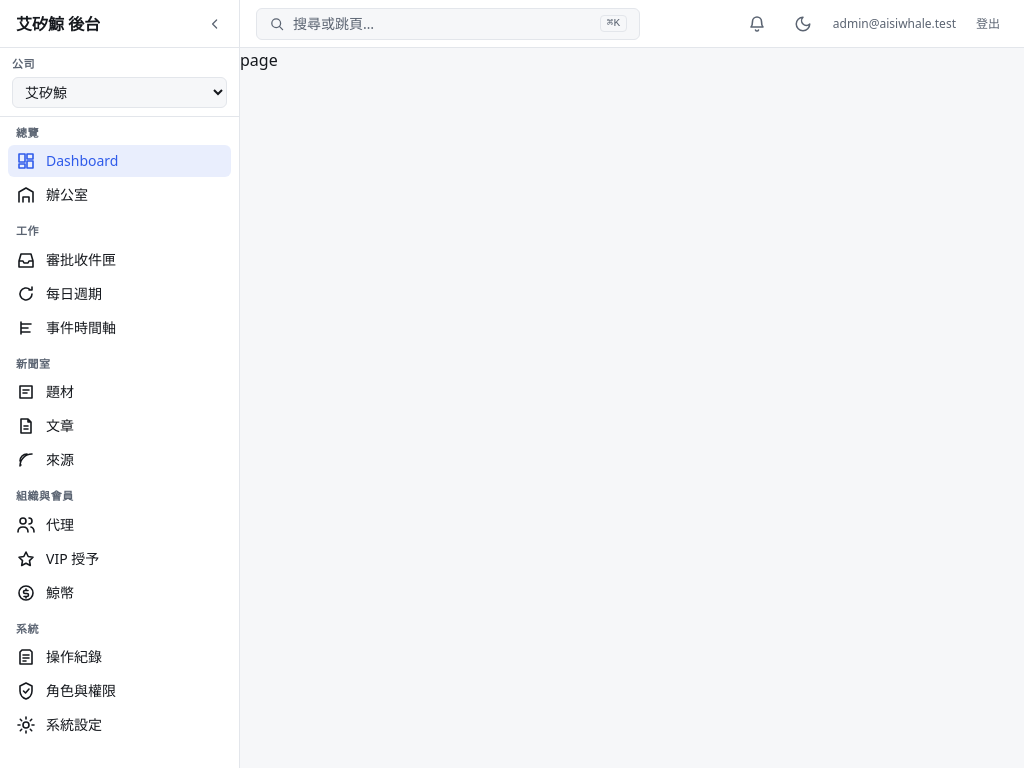
Test: the shortcuts › ⌘K and / open the palette, ? the help; a click on the top bar's box too
Press k
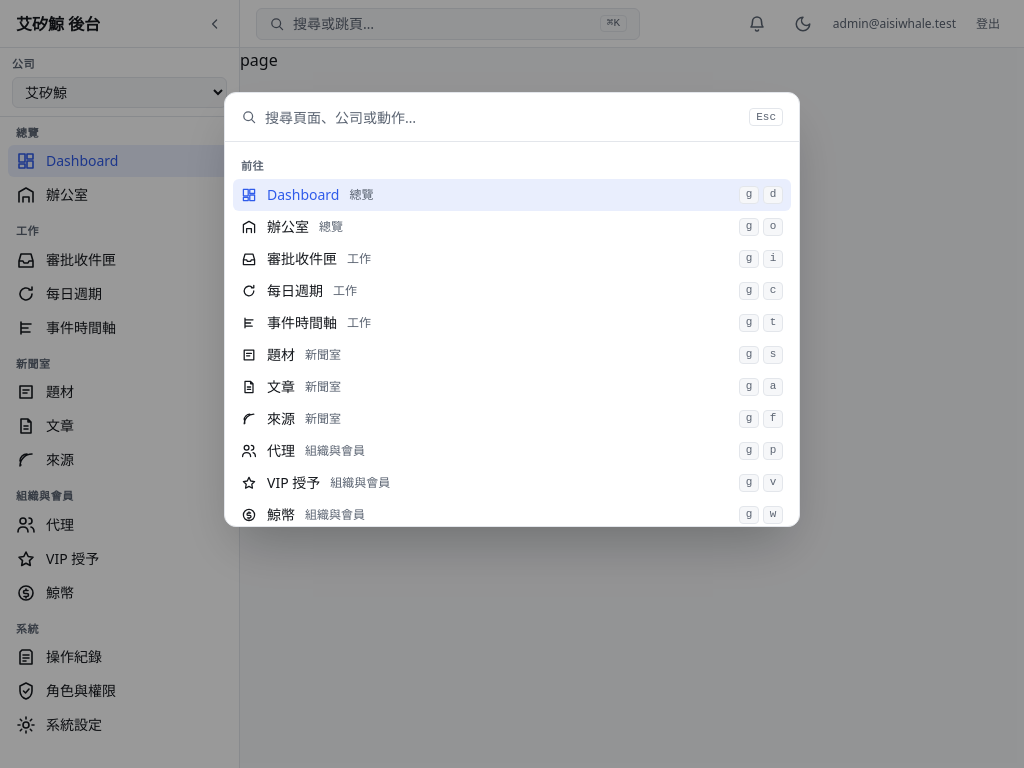
Now the dialog named "指令面板" is shown, box [224,92,800,527]
Press k
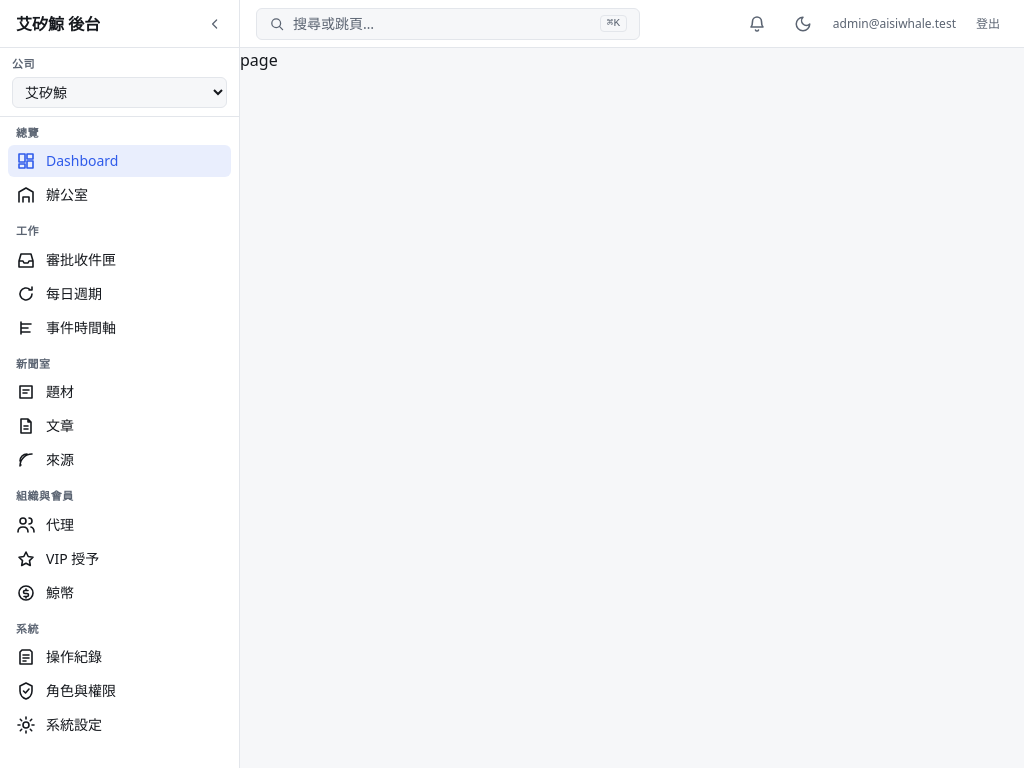
Now the dialog is gone
Press /
(page scrolled)
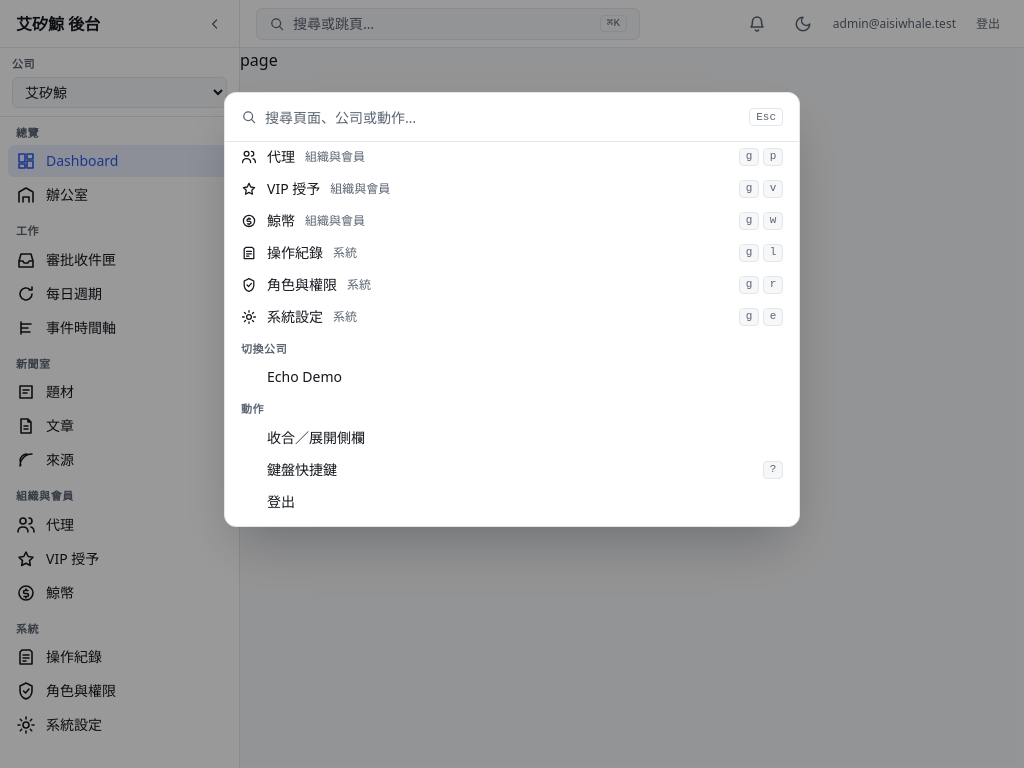
Now the dialog named "指令面板" is shown, box [224,92,800,527]
Click the option "鍵盤快捷鍵 ?" at [302, 469], box [267,460,783,479]
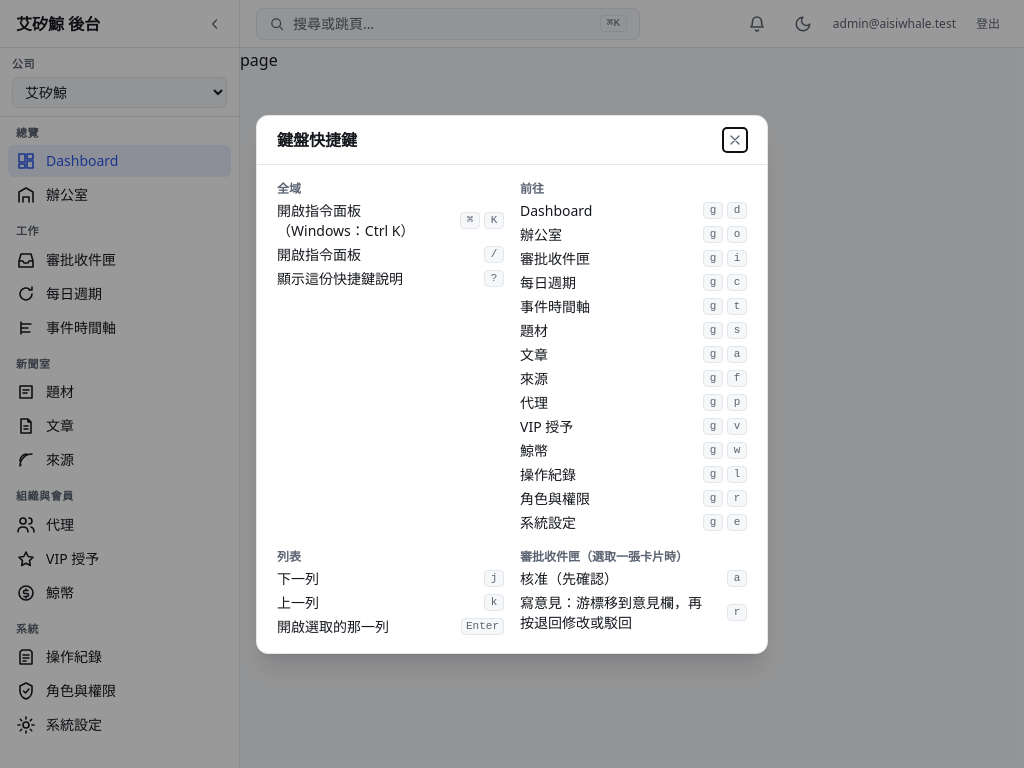
Now the dialog "鍵盤快捷鍵" shows "審批收件匣", box [520,248,590,268]
Click the button named "關閉" at [735, 140], box [723,128,747,152]
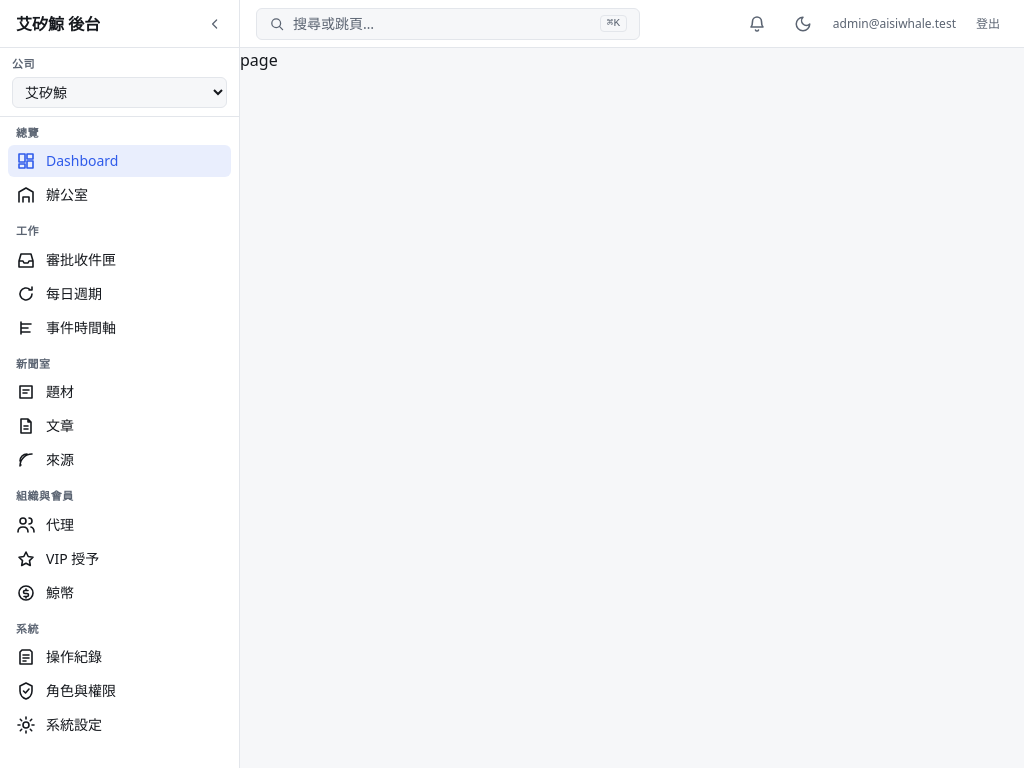
Click the button "搜尋或跳頁… ⌘K" at [334, 23], box [256,8,640,40]
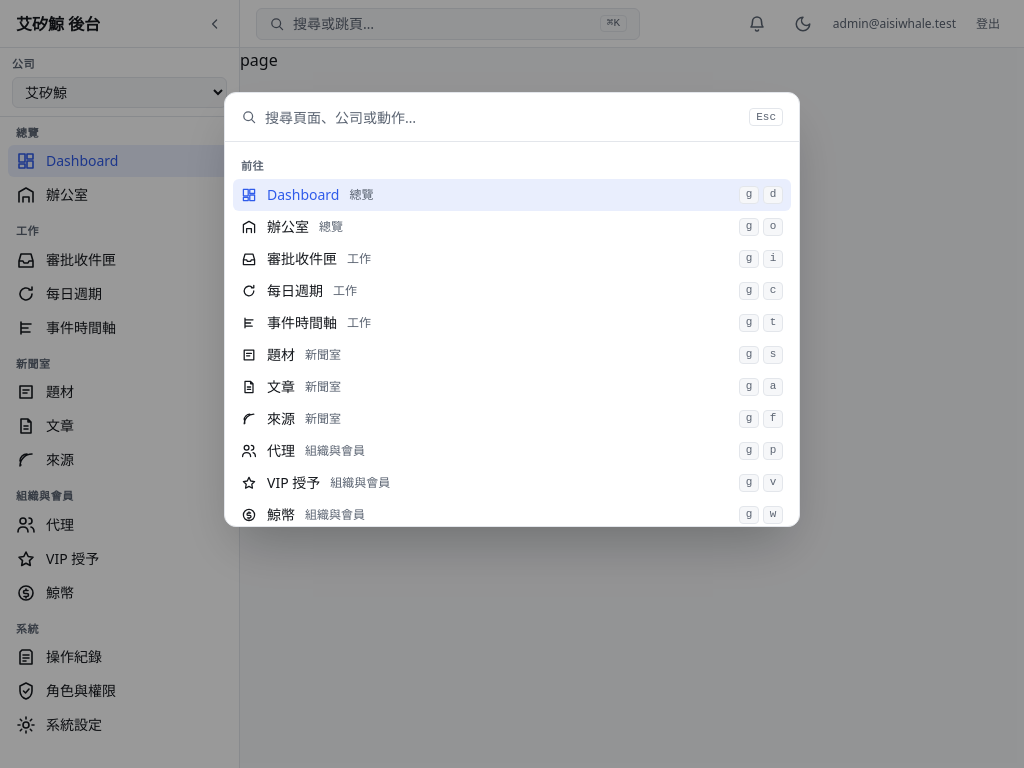
Now the dialog named "指令面板" is shown, box [224,92,800,527]
